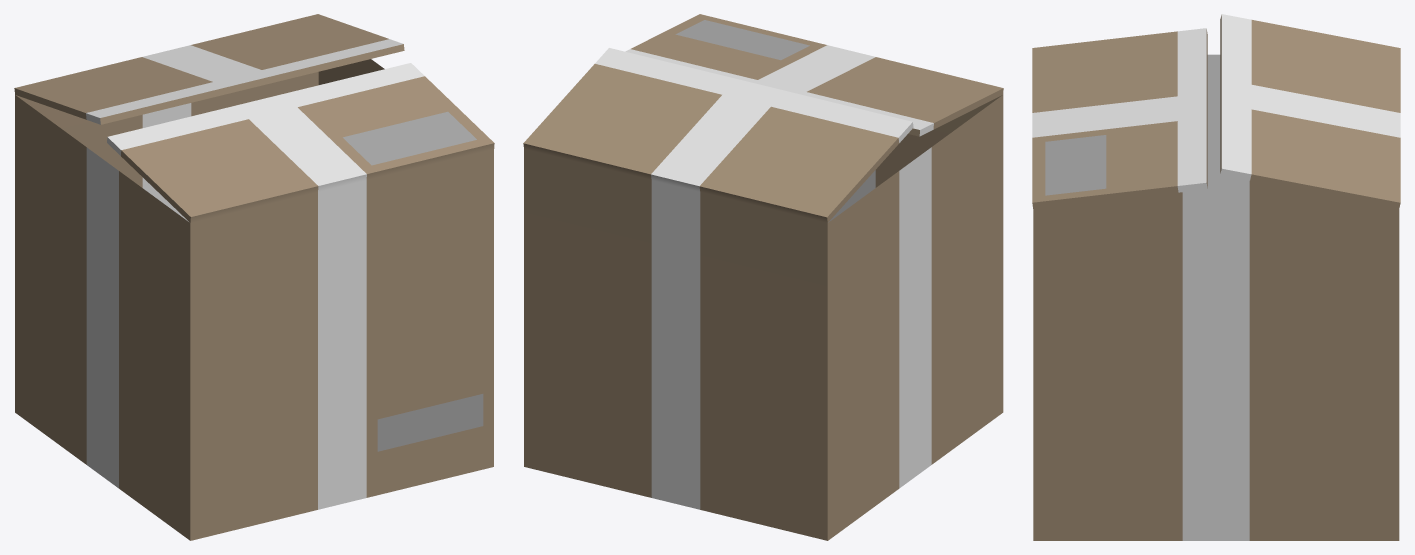
File: Caja abierta 1.fbx
3 renders of one model, left to right at view 1: azimuth 30°, elevation 25°; view 2: azimuth 150°, elevation 25°; view 3: azimuth 270°, elevation 25°, orthographic. The views are drawn at different scales.
Visible parts, largest first — view 1: Caja_abierta_1; view 2: Caja_abierta_1; view 3: Caja_abierta_1.
Boxes of the visible parts, x1,y1,x2,y2 form: Caja_abierta_1: (14,14,494,540); Caja_abierta_1: (523,14,1003,540); Caja_abierta_1: (1032,14,1400,540).
Bounding box in the file's own units: 1 × 1.12 × 1.01.
